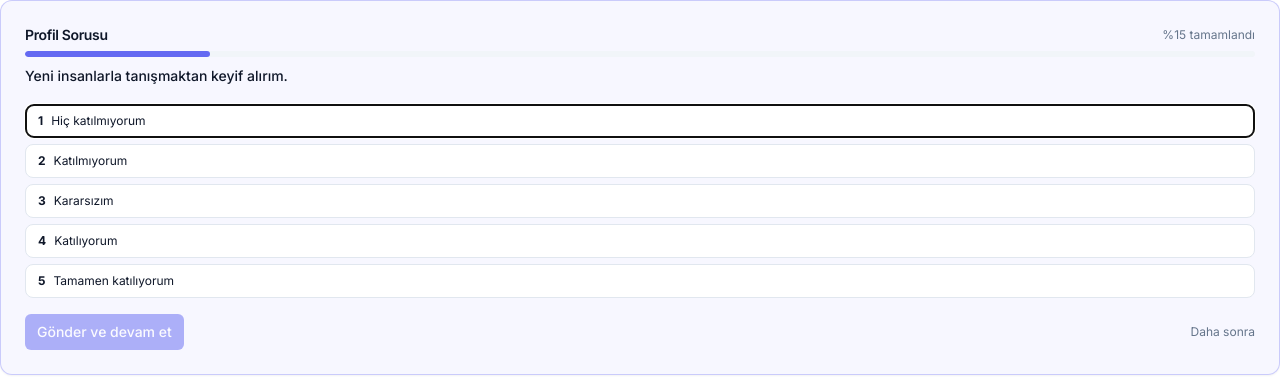
AJ-84 · DailyQuestionWidget — radiogroup erişilebilirliği › klavyeyle seçilen değer "Gönder ve devam et" ile gönderilir
Press ArrowRight in the radio button labelled "1Hiç katılmıyorum", box x1=25 y1=104 x2=1255 y2=138
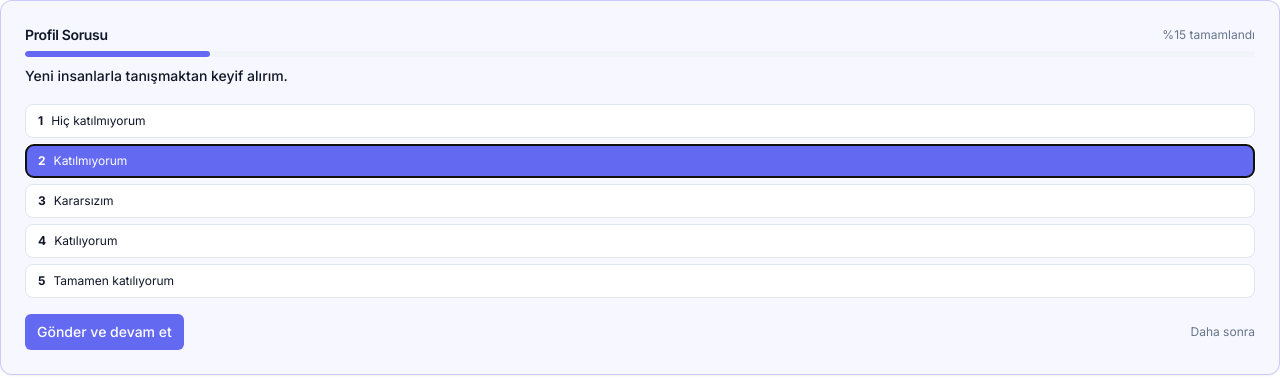
Press ArrowRight in the radio button labelled "2Katılmıyorum", box x1=25 y1=144 x2=1255 y2=178
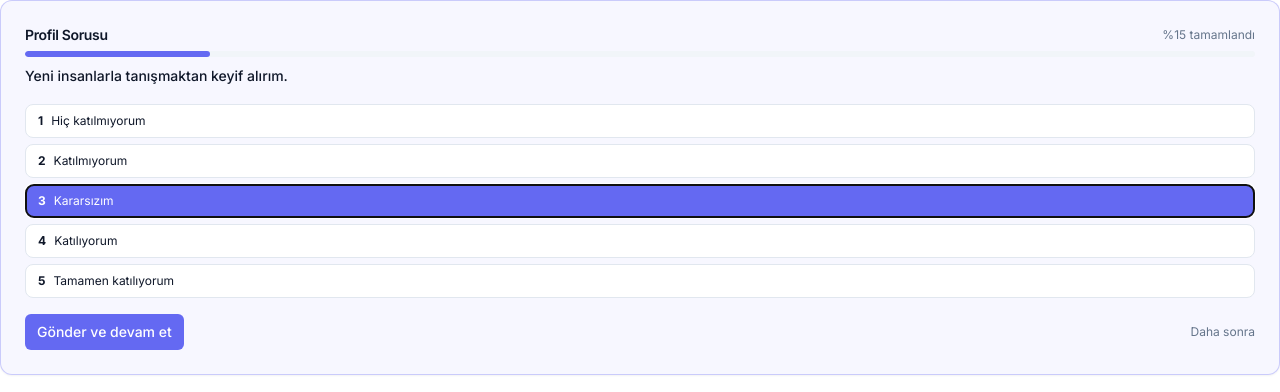
Press ArrowRight in the radio button labelled "3Kararsızım", box x1=25 y1=184 x2=1255 y2=218
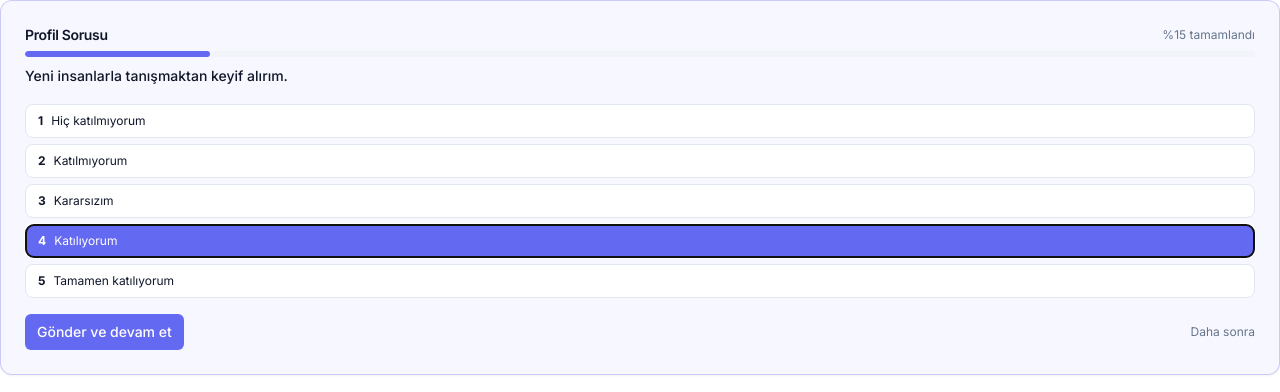
Expected: the button "Gönder ve devam et" is enabled
Click the button "Gönder ve devam et" at (104, 332), box x1=25 y1=314 x2=184 y2=350
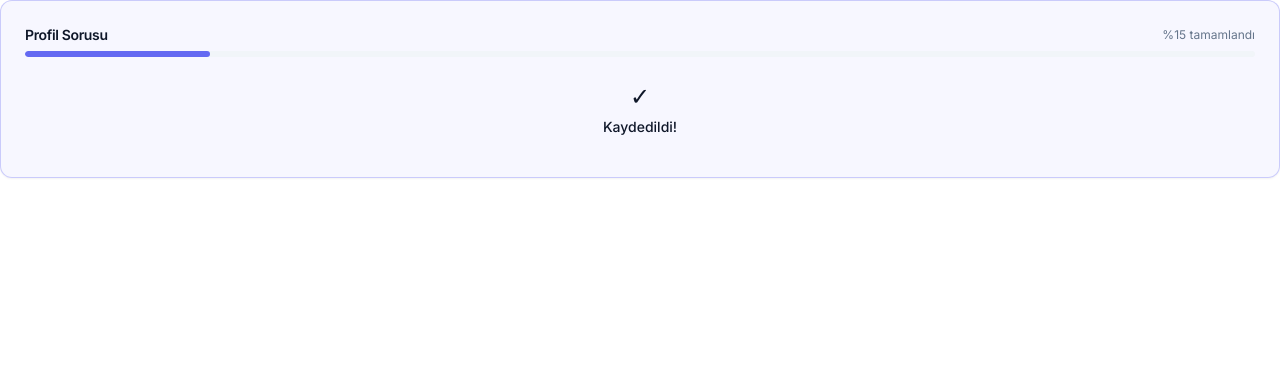
Expected: the text "Kaydedildi!" is shown, x1=603 y1=118 x2=677 y2=135
